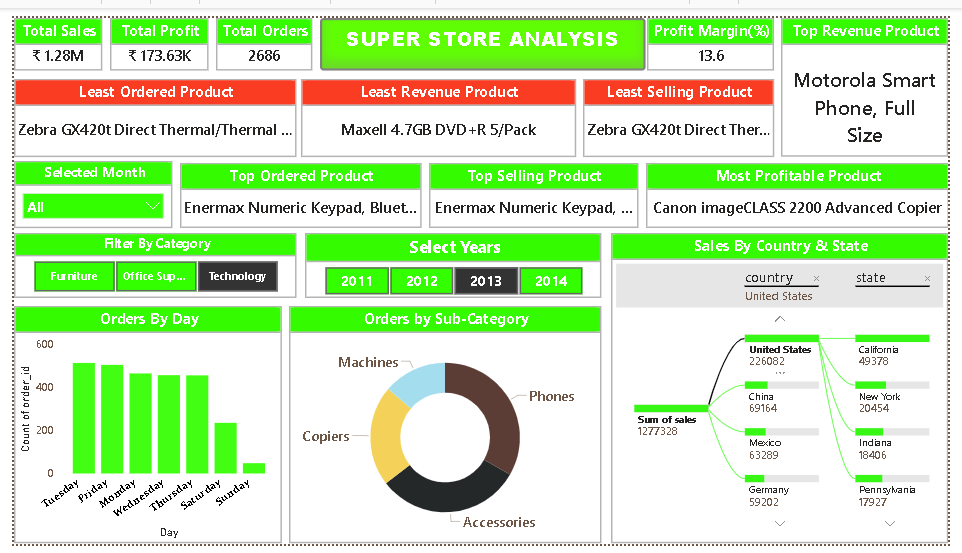

This screenshot's page, from the dashboard's own definition file:
{"tool":"powerbi","page":{"name":"Page 1","canvas":[1280,720],"ordinal":0},"visuals":[{"type":"card","title":"Total Sales","fields":{"Values":["SuperStoreOrders.Total_sales"]},"box":[0,0,121,72],"z":0},{"type":"card","title":"Total Profit","fields":{"Values":["SuperStoreOrders.Total_profit"]},"box":[131,0,135.4,72],"z":1000},{"type":"card","title":"Profit Margin(%)","fields":{"Values":["SuperStoreOrders.Profit_margin"]},"box":[866.9,0,174.2,72],"z":2000},{"type":"card","title":"Total Orders","fields":{"Values":["SuperStoreOrders.Total_orders"]},"box":[276.5,0,132.5,72],"z":3000},{"type":"card","title":"Least Selling Product","fields":{"Values":["SuperStoreOrders.Least_selling_product"]},"box":[779.5,83.6,261.6,106.8],"z":4000},{"type":"card","title":"Top Selling Product","fields":{"Values":["SuperStoreOrders.Top_selling_product"]},"box":[568.8,198.7,286.6,89.3],"z":5000},{"type":"card","title":"Top Revenue Product","fields":{"Values":["SuperStoreOrders.Top_revenue_product"]},"box":[1051.2,0,229,190.1],"z":6000},{"type":"card","title":"Least Revenue Product","fields":{"Values":["SuperStoreOrders.Least_revenue_product"]},"box":[393.2,83.6,376.7,106.8],"z":7000},{"type":"card","title":"Most Profitable Product","fields":{"Values":["SuperStoreOrders.Most_profitable_product"]},"box":[865.4,198.7,414.7,89.3],"z":8000},{"type":"card","title":"Least Ordered Product","fields":{"Values":["SuperStoreOrders.least_ordered_product"]},"box":[0,83.5,387.4,106.6],"z":9000},{"type":"card","title":"Top Ordered Product","fields":{"Values":["SuperStoreOrders.Most_ordered_product"]},"box":[227.5,198.7,331.2,89.3],"z":10000},{"type":"slicer","title":"Selected Month","fields":{"Values":["SuperStoreOrders.Month"]},"box":[0,195.8,217.4,92.2],"z":11000},{"type":"slicer","title":"Select Years","fields":{"Values":["SuperStoreOrders.year"]},"box":[398.9,295.2,406.1,89.3],"z":12000},{"type":"columnChart","title":"Orders By Day","fields":{"Category":["SuperStoreOrders.Day"],"Y":["CountNonNull(SuperStoreOrders.order_id)"]},"box":[0,394.6,367.2,325.4],"z":13000},{"type":"slicer","title":"Filter By Category","fields":{"Values":["SuperStoreOrders.category"]},"box":[0,295.2,387.4,89.3],"z":14000},{"type":"textbox","box":[419,0,446.4,72],"z":15000},{"type":"decompositionTreeVisual","title":"Sales By Country & State","fields":{"ExplainBy":["SuperStoreOrders.country","SuperStoreOrders.state"],"Analyze":["Sum(SuperStoreOrders.sales)"]},"box":[817.9,295.2,462.2,424.8],"z":16000},{"type":"donutChart","title":"Orders by Sub-Category","fields":{"Category":["SuperStoreOrders.sub_category"],"Y":["CountNonNull(SuperStoreOrders.order_id)"]},"box":[377.3,394.6,427.7,325.4],"z":16001}]}

Visuals, with their boxes in screenshot pixels (x1, y1, x2, y2), scaled from the page's 1280x720 canvas onto the 962x553 screenshot:
"Total Sales" card: (x1=0, y1=0, x2=91, y2=55)
"Total Profit" card: (x1=98, y1=0, x2=200, y2=55)
"Profit Margin(%)" card: (x1=652, y1=0, x2=782, y2=55)
"Total Orders" card: (x1=208, y1=0, x2=307, y2=55)
"Least Selling Product" card: (x1=586, y1=64, x2=782, y2=146)
"Top Selling Product" card: (x1=427, y1=153, x2=643, y2=221)
"Top Revenue Product" card: (x1=790, y1=0, x2=961, y2=146)
"Least Revenue Product" card: (x1=296, y1=64, x2=579, y2=146)
"Most Profitable Product" card: (x1=650, y1=153, x2=961, y2=221)
"Least Ordered Product" card: (x1=0, y1=64, x2=291, y2=146)
"Top Ordered Product" card: (x1=171, y1=153, x2=420, y2=221)
"Selected Month" slicer: (x1=0, y1=150, x2=163, y2=221)
"Select Years" slicer: (x1=300, y1=227, x2=605, y2=295)
"Orders By Day" columnChart: (x1=0, y1=303, x2=276, y2=552)
"Filter By Category" slicer: (x1=0, y1=227, x2=291, y2=295)
textbox: (x1=315, y1=0, x2=650, y2=55)
"Sales By Country & State" decompositionTreeVisual: (x1=615, y1=227, x2=961, y2=552)
"Orders by Sub-Category" donutChart: (x1=284, y1=303, x2=605, y2=552)
